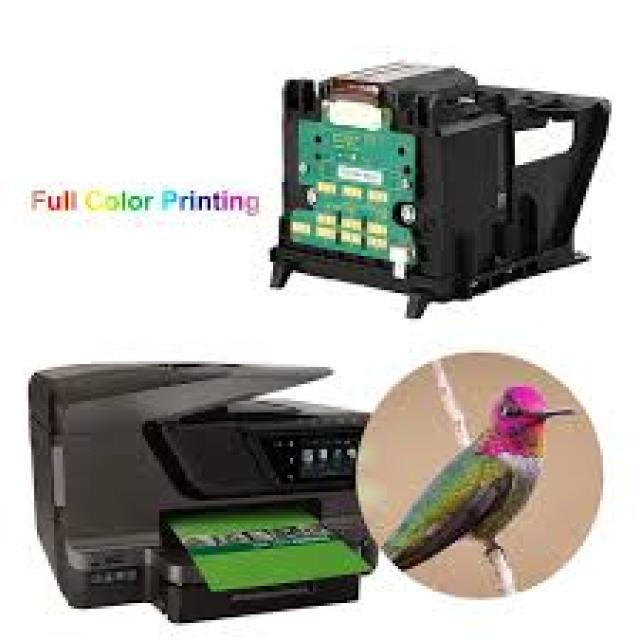printer: (26, 358, 378, 623)
